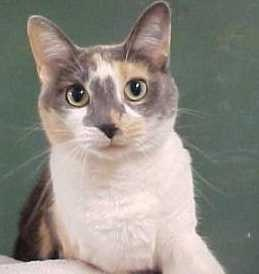Cat: (15, 1, 196, 270)
